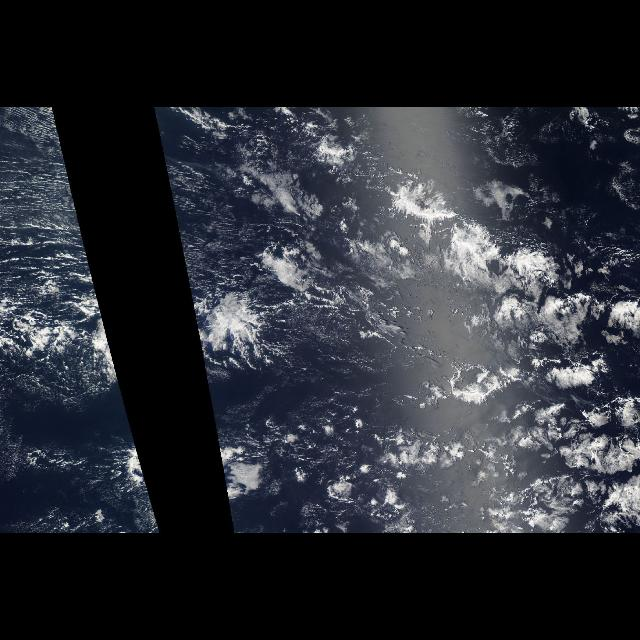Flower: (318, 144, 604, 418)
Gravel: (5, 299, 129, 417)
Sugar: (154, 109, 258, 287), (1, 110, 95, 296)
